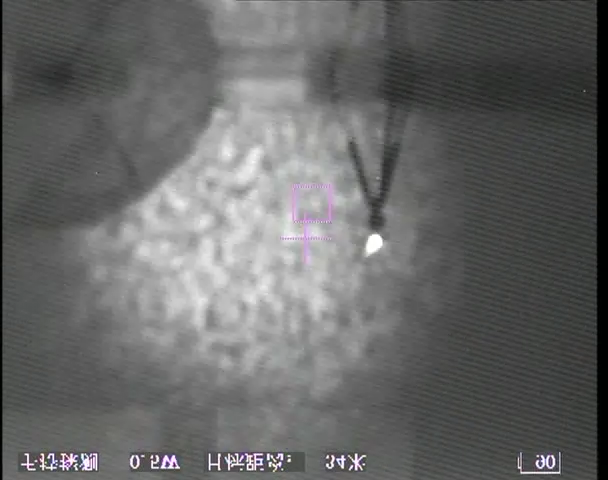my: (363, 231, 383, 257)
